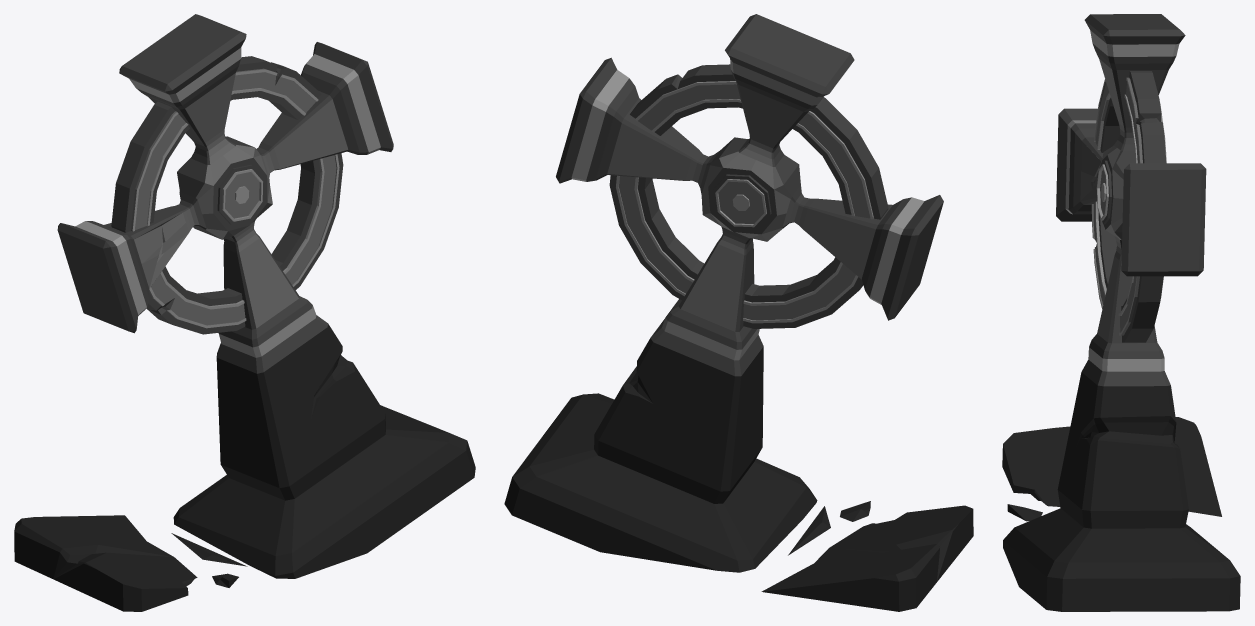
File: GraveStone.fbx
3 views of the same model, side by side, from view 1: azimuth 30°, elevation 25°; view 2: azimuth 150°, elevation 25°; view 3: azimuth 270°, elevation 25° (orthographic). The views are drawn at different scales.
Parts seen in each view (by area): view 1: GraveStone; view 2: GraveStone; view 3: GraveStone.
Boxes of the visible parts, bbox=[...] form: GraveStone: bbox=[14, 14, 475, 611]; GraveStone: bbox=[504, 14, 973, 611]; GraveStone: bbox=[1002, 14, 1240, 611].
Size of the model in its own units: 92.81 by 112 by 46.81.
